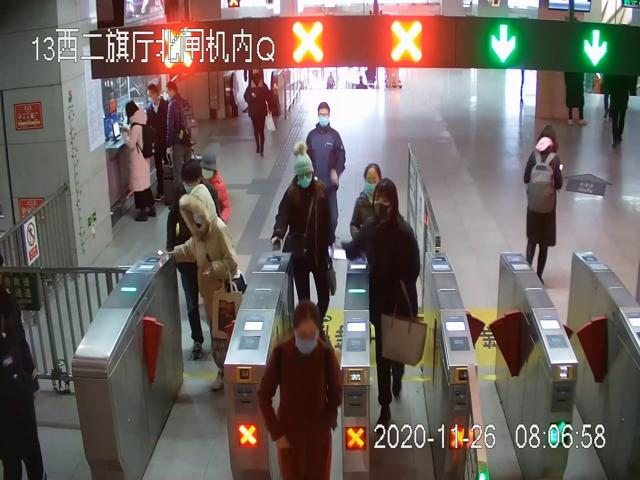person: (353, 178, 427, 430), (167, 186, 241, 391), (272, 141, 337, 326), (522, 125, 563, 283), (305, 102, 346, 251), (121, 100, 158, 221), (164, 83, 197, 189), (143, 84, 169, 201), (245, 71, 271, 162)
